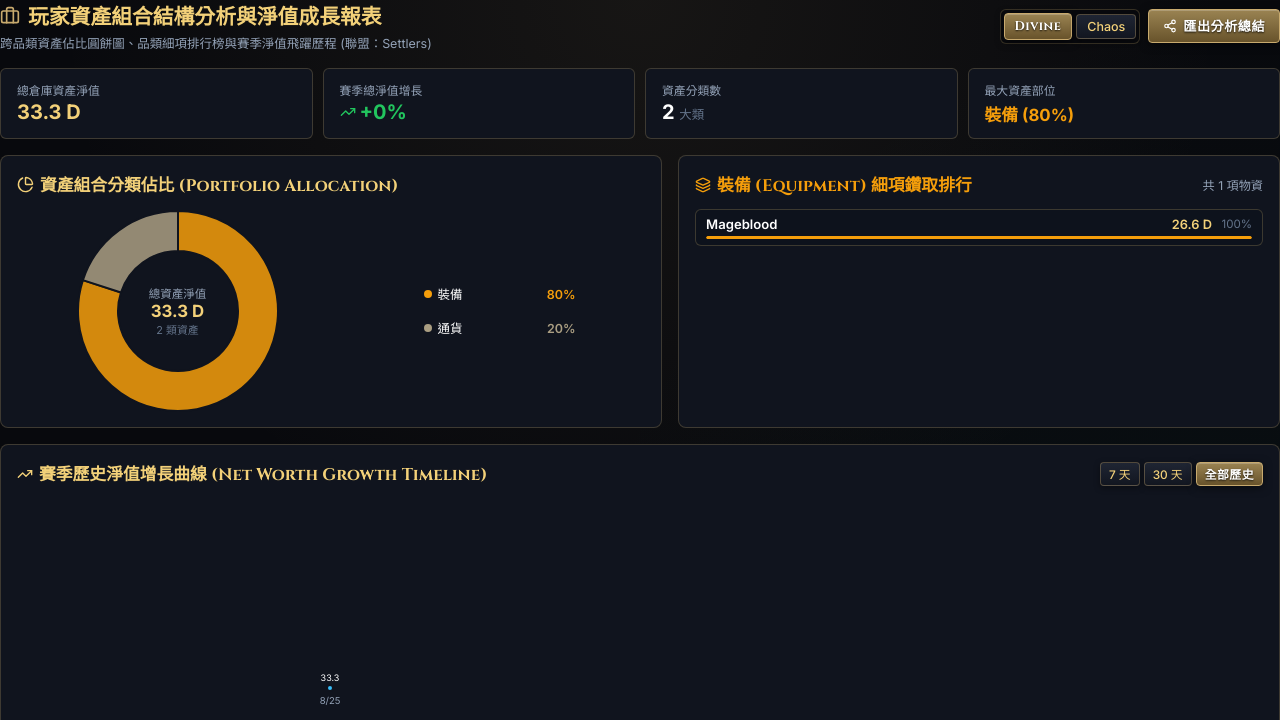
PortfolioAnalysisHub › opens and closes export modal
Click the button "匯出分析總結": [1214, 26] box [1148,9,1279,43]
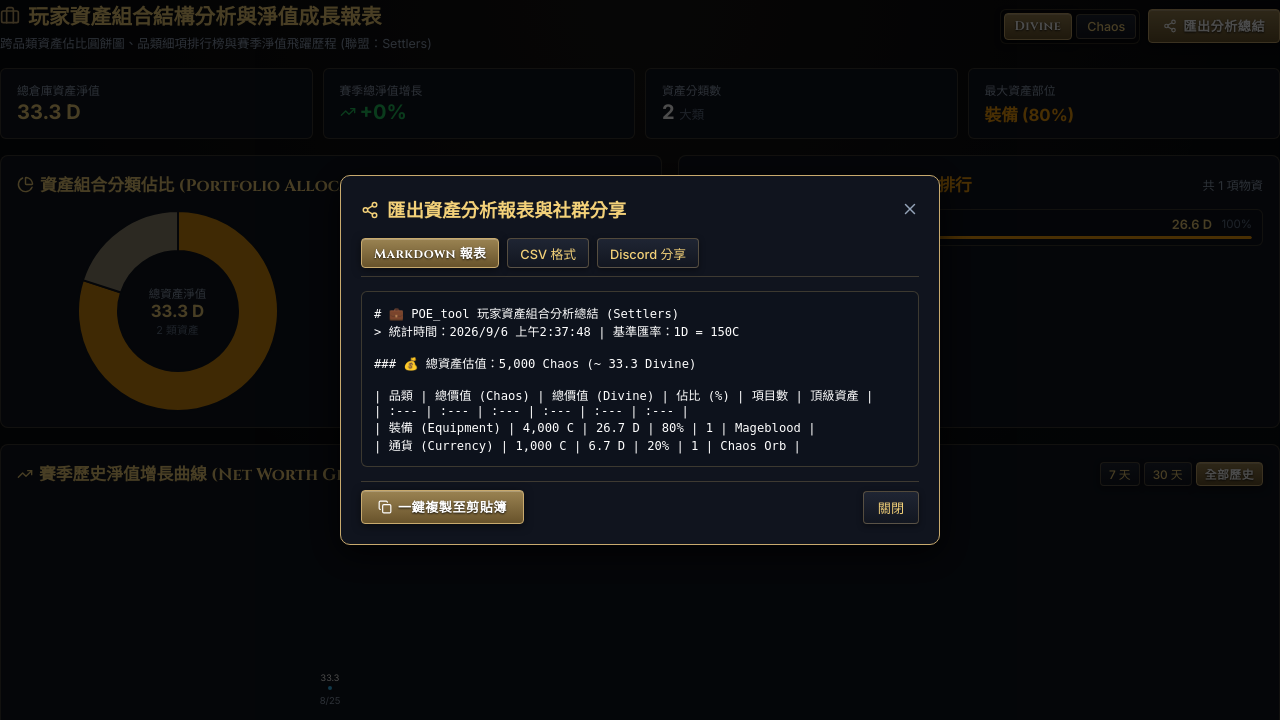
Result: the heading "匯出資產分析報表與社群分享" is shown at [361,196,626,224]
Click the button "關閉": [891, 507] box [863,490,919,524]
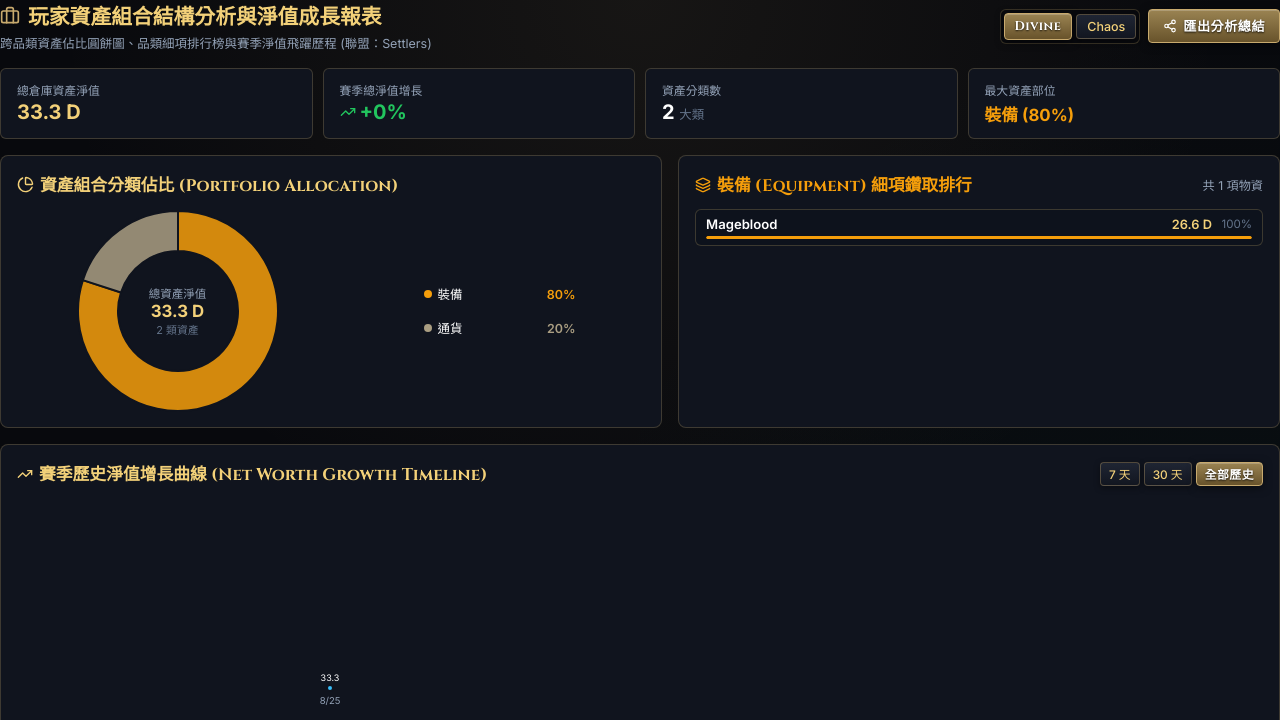
Result: the heading "匯出資產分析報表與社群分享" is gone
